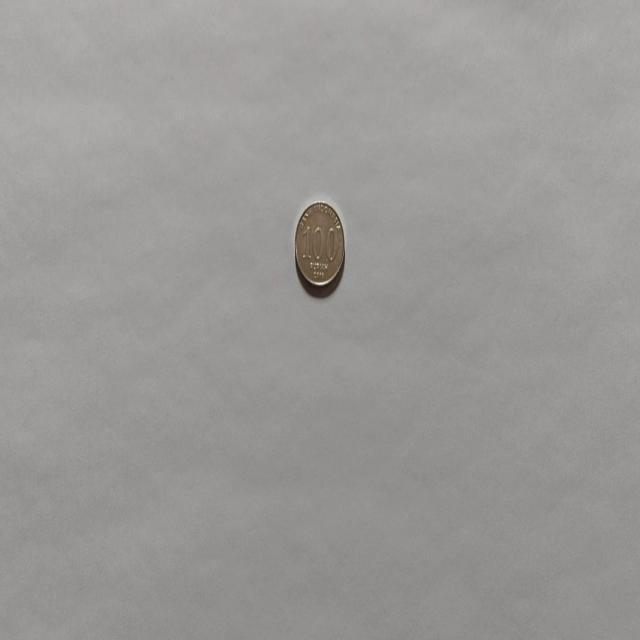seratus rupiah: (293, 199, 345, 288)
